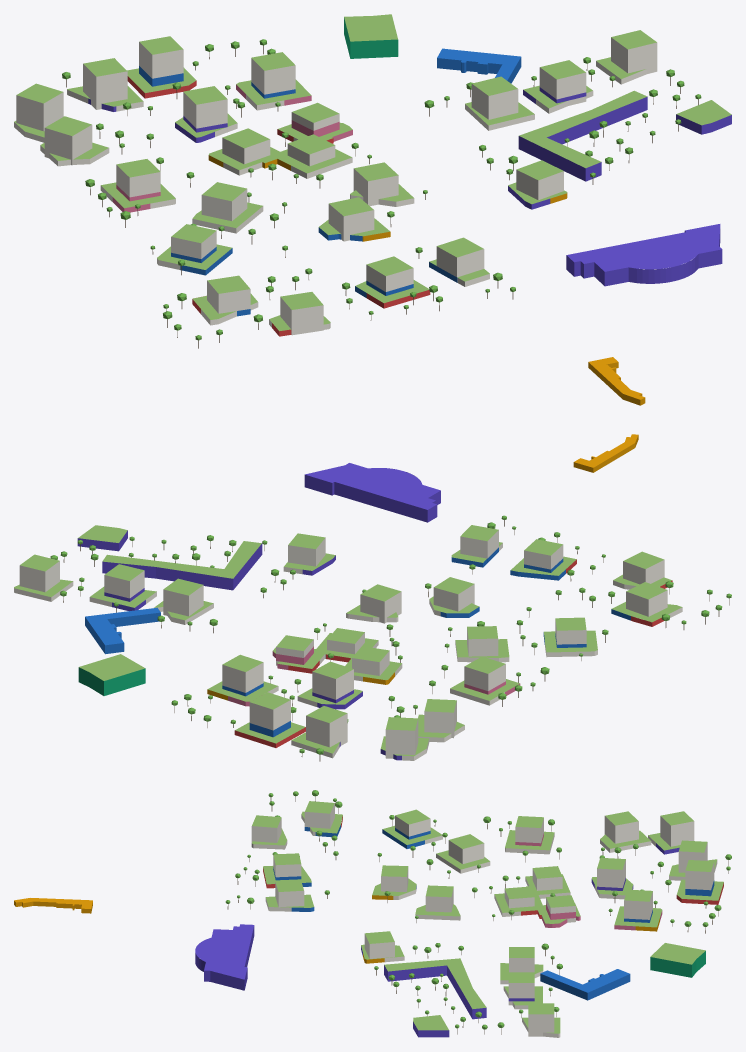
3 views of the same model, one above another, from view 1: azimuth 30°, elevation 25°; view 2: azimuth 150°, elevation 25°; view 3: azimuth 270°, elevation 25° (orthographic). The views are drawn at different scales.
Visible parts, largest first — view 1: V7_P3_bildung, V7_P1_wohnen, V7_P2_wohnen, V7_P3_dach, V7_P2_dach, V7_P1_dach, V7_P3_wohnen, V7_P4_wohnen, V7_P4_dach, V7_P1_arbeiten, V7_P3_baeume, V7_P4_baeume (+6 smaller); view 2: V7_P3_bildung, V7_P1_wohnen, V7_P3_dach, V7_P2_wohnen, V7_P1_dach, V7_P2_dach, V7_P3_wohnen, V7_P4_wohnen, V7_P4_dach, V7_P1_arbeiten, V7_P3_baeume, V7_P1_mobilitaet (+6 smaller); view 3: V7_P3_dach, V7_P1_dach, V7_P3_bildung, V7_P2_dach, V7_P1_wohnen, V7_P2_wohnen, V7_P3_wohnen, V7_P4_dach, V7_P4_wohnen, V7_P1_arbeiten, V7_P3_baeume, V7_P1_mobilitaet (+5 smaller).
Part boxes in pixels (<box>): V7_P3_bildung: <box>508,96,731,286</box>; V7_P1_wohnen: <box>14,42,295,166</box>; V7_P2_wohnen: <box>100,37,657,208</box>; V7_P3_dach: <box>157,90,731,269</box>; V7_P2_dach: <box>101,30,656,208</box>; V7_P1_dach: <box>14,14,397,160</box>; V7_P3_wohnen: <box>157,168,563,269</box>; V7_P4_wohnen: <box>201,246,489,335</box>; V7_P4_dach: <box>192,237,489,331</box>; V7_P1_arbeiten: <box>139,48,521,98</box>; V7_P3_baeume: <box>150,69,701,275</box>; V7_P4_baeume: <box>163,247,515,348</box>; V7_P3_bildung: <box>77,463,440,590</box>; V7_P1_wohnen: <box>222,662,464,760</box>; V7_P3_dach: <box>78,525,597,657</box>; V7_P2_wohnen: <box>14,561,505,705</box>; V7_P1_dach: <box>79,654,464,756</box>; V7_P2_dach: <box>14,554,519,700</box>; V7_P3_wohnen: <box>283,538,597,662</box>; V7_P4_wohnen: <box>460,530,682,617</box>; V7_P4_dach: <box>451,525,682,622</box>; V7_P1_arbeiten: <box>85,607,290,737</box>; V7_P3_baeume: <box>50,535,608,660</box>; V7_P1_mobilitaet: <box>78,667,145,695</box>; V7_P3_dach: <box>361,809,489,1030</box>; V7_P1_dach: <box>592,811,723,964</box>; V7_P3_bildung: <box>195,924,486,1037</box>; V7_P2_dach: <box>494,816,580,1033</box>; V7_P1_wohnen: <box>594,816,717,919</box>; V7_P2_wohnen: <box>494,818,575,1037</box>; V7_P3_wohnen: <box>364,816,490,962</box>; V7_P4_dach: <box>252,801,342,907</box>; V7_P4_wohnen: <box>251,803,334,911</box>; V7_P1_arbeiten: <box>540,880,714,1000</box>; V7_P3_baeume: <box>374,815,504,1034</box>; V7_P1_mobilitaet: <box>650,951,705,977</box>.
Size of the model in its own units: 522 by 29 by 667.
